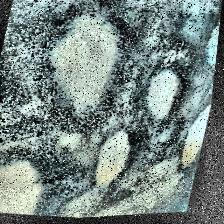pothole: (33, 5, 147, 126), (1, 153, 61, 220), (91, 128, 143, 196), (142, 65, 196, 127), (178, 100, 214, 174), (199, 1, 223, 73), (160, 208, 192, 216)
